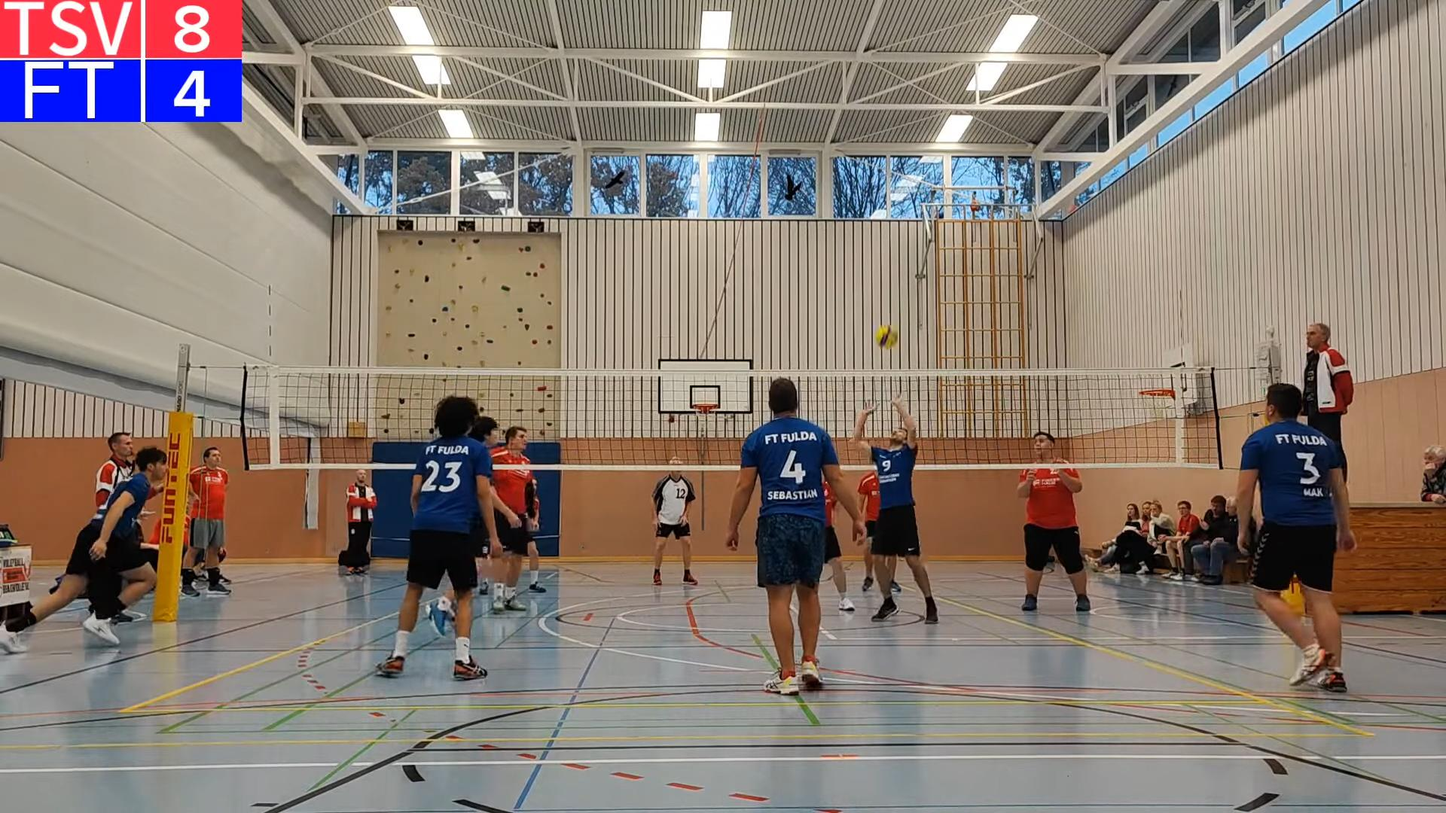alzata: (853, 401, 942, 627)
